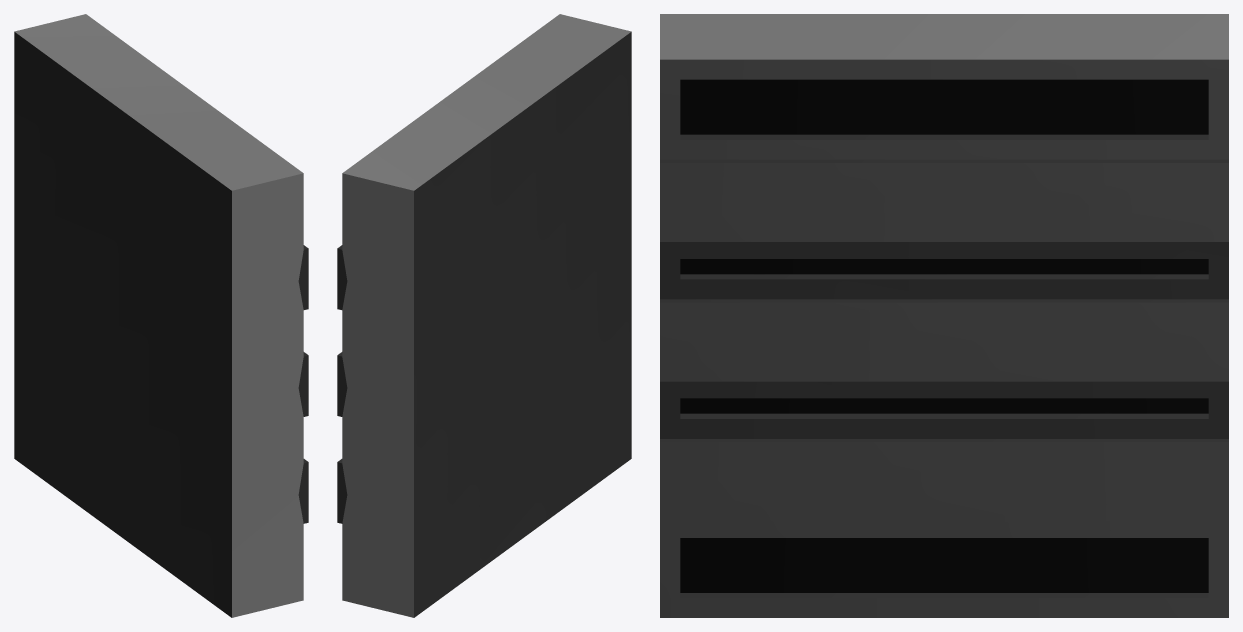
The model's file is DungeonWalls.fbx.
3 views of the same model, side by side, from view 1: azimuth 30°, elevation 25°; view 2: azimuth 150°, elevation 25°; view 3: azimuth 270°, elevation 25° (orthographic). The views are drawn at different scales.
Visible parts, largest first — view 1: Cube; view 2: Cube; view 3: Cube.
Boxes of the visible parts, <box> form: Cube: <box>14,14,308,617</box>; Cube: <box>337,14,631,617</box>; Cube: <box>660,14,1228,617</box>.
Bounding box in the file's own units: 98.71 × 524 × 484.
